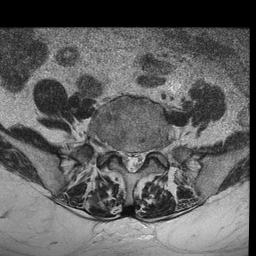CCS_normal: (128, 145, 135, 175)
LFS_severe_stenosis: (145, 142, 153, 161)
LLS_normal: (136, 146, 145, 169)
RFS_stenosis: (113, 140, 121, 163)
RLS_normal: (120, 146, 128, 171)
